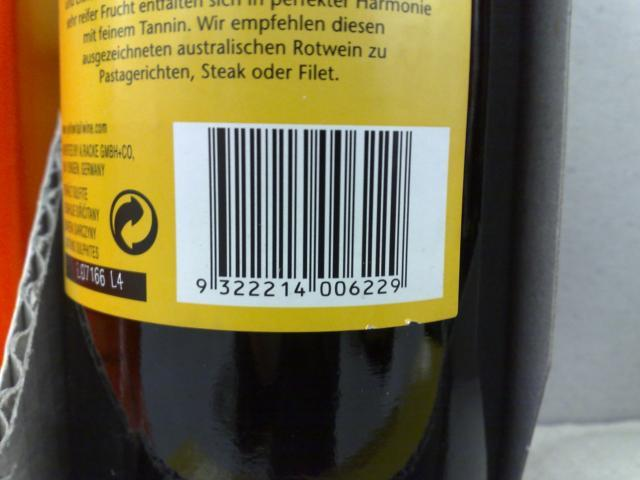Barcode: (173, 123, 434, 305)
